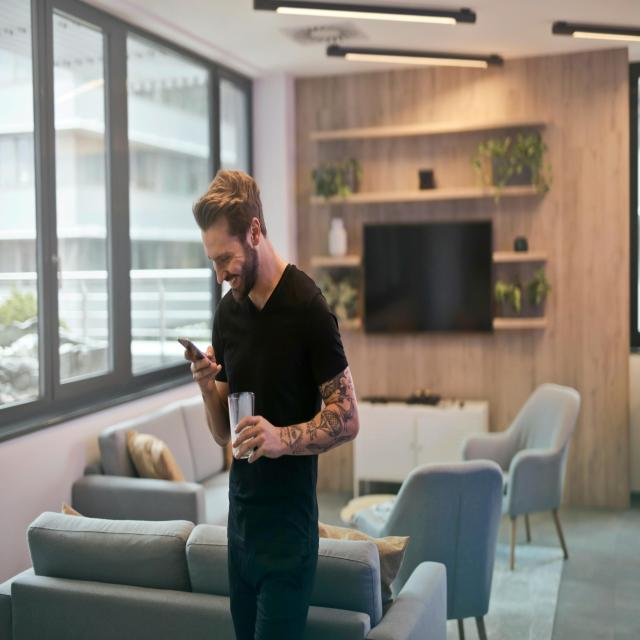stand: (176, 149, 352, 640)
